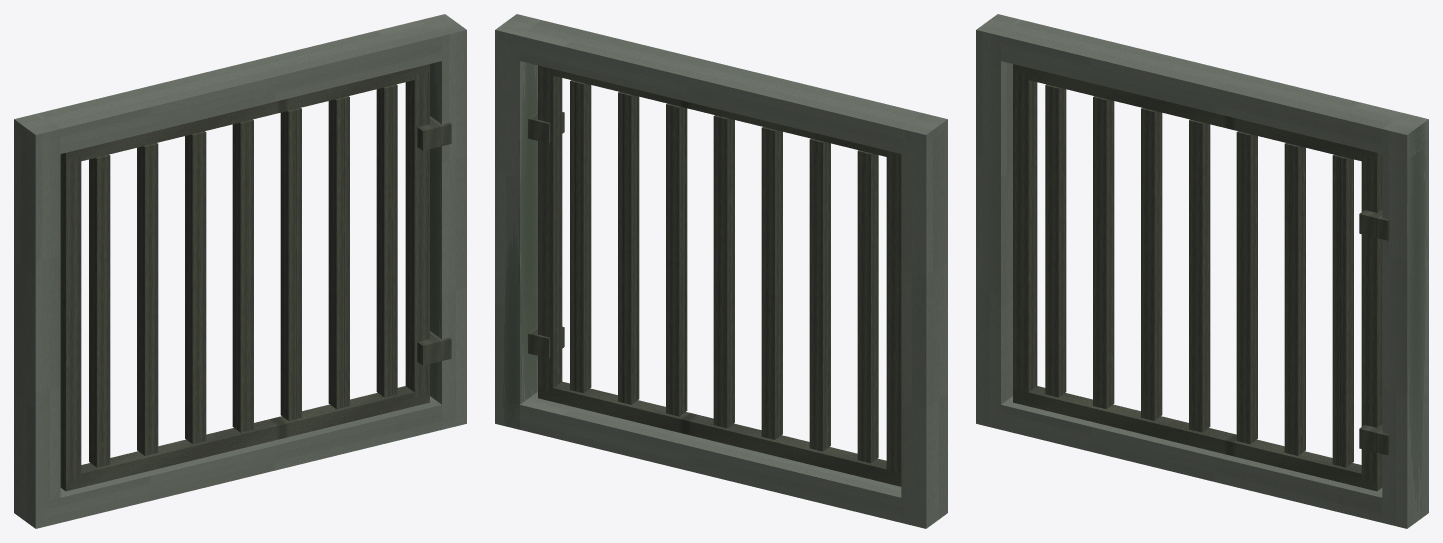
Rendered from ThiefDoor_RectSwing.fbx.
The picture shows the model from 3 angles, left to right: view 1: azimuth 30°, elevation 25°; view 2: azimuth 150°, elevation 25°; view 3: azimuth 330°, elevation 25°; orthographic projection.
Visible parts, largest first — view 1: Stone_Top_Frame, Stone_Right_Post, Stone_Left_Post, Stone_Bottom_Frame, Leaf_Left_Rail, Leaf_Bottom_Rail, Leaf_Right_Rail, Straight_Iron_Bar_04, Straight_Iron_Bar_05, Straight_Iron_Bar_06, Straight_Iron_Bar_00, Straight_Iron_Bar_01 (+5 smaller); view 2: Stone_Right_Post, Stone_Top_Frame, Stone_Left_Post, Stone_Bottom_Frame, Leaf_Left_Rail, Leaf_Bottom_Rail, Straight_Iron_Bar_03, Straight_Iron_Bar_04, Straight_Iron_Bar_06, Straight_Iron_Bar_00, Straight_Iron_Bar_02, Straight_Iron_Bar_05 (+5 smaller); view 3: Stone_Top_Frame, Stone_Left_Post, Stone_Right_Post, Stone_Bottom_Frame, Leaf_Right_Rail, Leaf_Bottom_Rail, Straight_Iron_Bar_02, Straight_Iron_Bar_01, Straight_Iron_Bar_00, Straight_Iron_Bar_03, Straight_Iron_Bar_05, Straight_Iron_Bar_06 (+5 smaller).
Part boxes in pixels (<box>): Stone_Top_Frame: <box>14,14,466,159</box>; Stone_Right_Post: <box>14,113,60,528</box>; Stone_Left_Post: <box>421,14,466,429</box>; Stone_Bottom_Frame: <box>16,396,466,528</box>; Leaf_Left_Rail: <box>405,71,429,397</box>; Leaf_Bottom_Rail: <box>60,386,429,491</box>; Leaf_Right_Rail: <box>60,156,81,482</box>; Straight_Iron_Bar_04: <box>185,131,206,444</box>; Straight_Iron_Bar_05: <box>137,143,158,455</box>; Straight_Iron_Bar_06: <box>89,154,110,467</box>; Straight_Iron_Bar_00: <box>376,84,397,397</box>; Straight_Iron_Bar_01: <box>328,96,349,409</box>; Stone_Right_Post: <box>901,113,947,528</box>; Stone_Top_Frame: <box>496,14,947,158</box>; Stone_Left_Post: <box>495,14,540,429</box>; Stone_Bottom_Frame: <box>495,392,946,528</box>; Leaf_Left_Rail: <box>538,67,562,392</box>; Leaf_Bottom_Rail: <box>538,381,901,486</box>; Straight_Iron_Bar_03: <box>713,115,734,427</box>; Straight_Iron_Bar_04: <box>761,127,782,439</box>; Straight_Iron_Bar_06: <box>857,150,878,463</box>; Straight_Iron_Bar_00: <box>570,80,591,393</box>; Straight_Iron_Bar_02: <box>666,103,687,416</box>; Straight_Iron_Bar_05: <box>809,138,830,451</box>; Stone_Top_Frame: <box>976,14,1428,159</box>; Stone_Left_Post: <box>1382,113,1428,528</box>; Stone_Right_Post: <box>976,14,1021,429</box>; Stone_Bottom_Frame: <box>976,396,1417,527</box>; Leaf_Right_Rail: <box>1013,71,1037,397</box>; Leaf_Bottom_Rail: <box>1013,386,1382,491</box>; Straight_Iron_Bar_02: <box>1236,131,1257,444</box>; Straight_Iron_Bar_01: <box>1284,143,1305,455</box>; Straight_Iron_Bar_00: <box>1332,154,1353,467</box>; Straight_Iron_Bar_03: <box>1189,119,1210,432</box>; Straight_Iron_Bar_05: <box>1093,96,1114,409</box>; Straight_Iron_Bar_06: <box>1045,84,1066,397</box>.
Size of the model in its own units: 252 by 220 by 24.
Materials: 4 (4 with a texture image).
